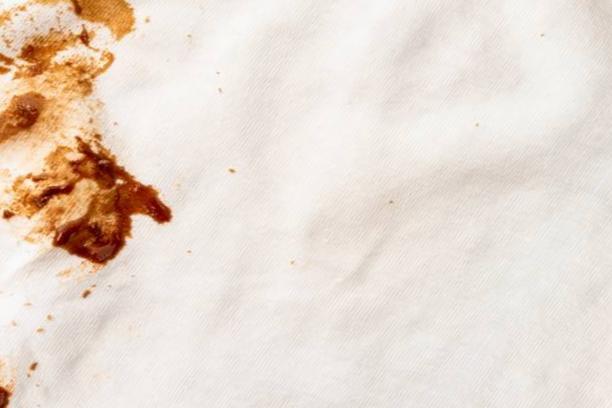stain: (0, 0, 181, 275), (0, 360, 35, 408)
